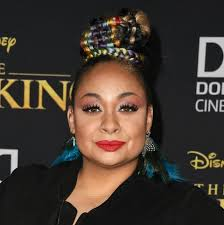black_female: (61, 28, 174, 180)
